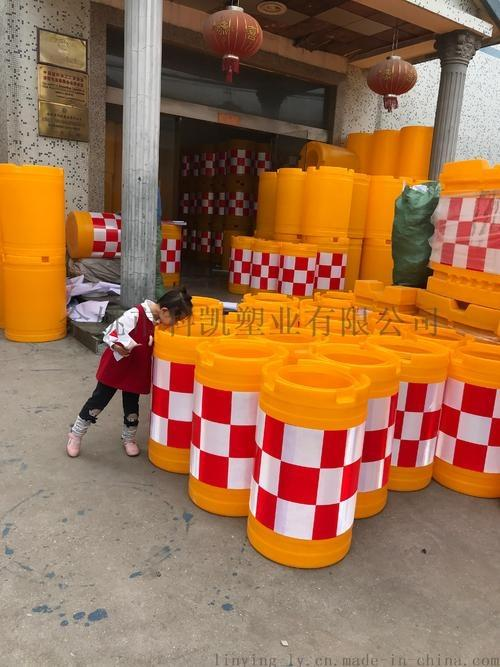cone_barrel: (246, 359, 366, 563), (191, 339, 259, 521), (384, 337, 442, 499), (440, 339, 499, 498), (432, 158, 493, 299), (149, 326, 195, 474), (64, 209, 122, 256), (280, 241, 314, 299), (156, 221, 184, 289), (250, 238, 279, 294), (315, 246, 347, 294), (227, 234, 252, 294)
